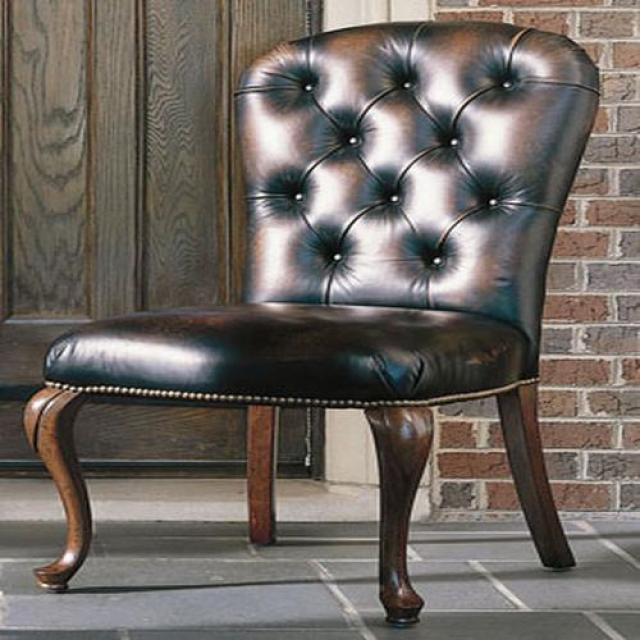chair: (22, 22, 600, 626)
